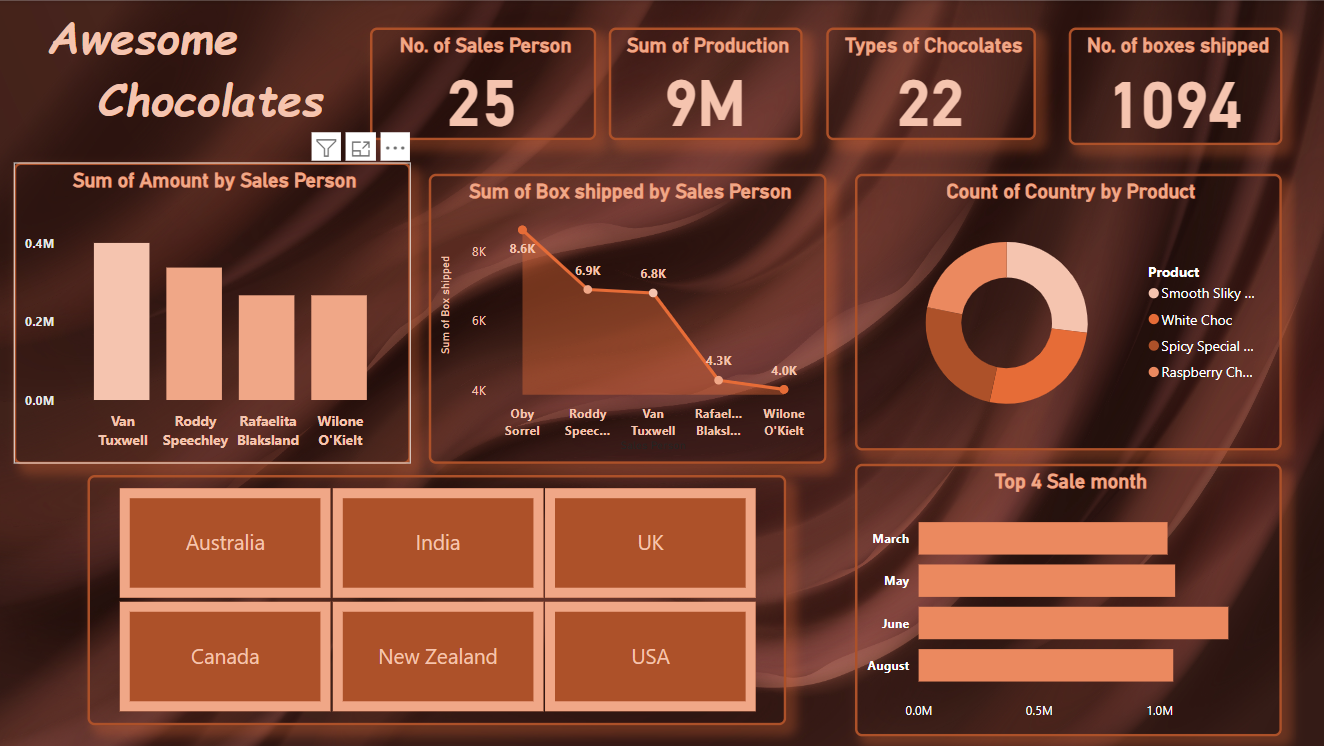

This screenshot's page, from the dashboard's own definition file:
{"tool":"powerbi","page":{"name":"Page 1","canvas":[1280,720],"ordinal":0},"visuals":[{"type":"card","title":"No. of Sales Person","fields":{"Values":["Chocolate Sales.Sales Person"]},"box":[357.1,26.5,218.4,108.6],"z":0},{"type":"card","title":"Sum of Production ","fields":{"Values":["Chocolate Sales.Amount"]},"box":[587.5,26.5,187,108.6],"z":1000},{"type":"card","title":"Types of Chocolates","fields":{"Values":["Chocolate Sales.Product"]},"box":[797.5,26.5,202.7,108.6],"z":2000},{"type":"card","title":"No. of boxes shipped","fields":{"Values":["Chocolate Sales.Box shipped"]},"box":[1031.5,26.5,206.3,113.4],"z":3000},{"type":"columnChart","title":"Sum of Amount by Sales Person","fields":{"Category":["Chocolate Sales.Sales Person"],"Y":["Chocolate Sales.Amount"]},"box":[13.7,156.4,382.8,290.9],"z":4000},{"type":"donutChart","fields":{"Y":["Chocolate Sales.Country"],"Category":["Chocolate Sales.Product"]},"box":[825.7,167.6,412.2,267.6],"z":5000},{"type":"areaChart","fields":{"Category":["Chocolate Sales.Sales Person"],"Y":["Chocolate Sales.Box shipped"]},"box":[414.4,167.4,384.2,279.9],"z":6000},{"type":"barChart","title":"Top 4 Sale month","fields":{"Category":["Chocolate Sales.Date.Variation.Date Hierarchy.Month"],"Y":["Chocolate Sales.Amount"]},"box":[825.7,447.3,412.2,263.5],"z":7000},{"type":"slicer","fields":{"Values":["Chocolate Sales.Country"]},"box":[84.5,458.4,674.4,241.3],"z":8000},{"type":"textbox","box":[14.1,0,330.8,156.4],"z":9000}]}

Visuals, with their boxes in screenshot pixels (x1, y1, x2, y2), scaled from the page's 1280x720 canvas onto the 1324x746 screenshot:
"No. of Sales Person" card: bbox=[369, 27, 595, 140]
"Sum of Production " card: bbox=[608, 27, 801, 140]
"Types of Chocolates" card: bbox=[825, 27, 1035, 140]
"No. of boxes shipped" card: bbox=[1067, 27, 1280, 145]
"Sum of Amount by Sales Person" columnChart: bbox=[14, 162, 410, 463]
donutChart - Chocolate Sales.Country x Chocolate Sales.Product: bbox=[854, 174, 1280, 451]
areaChart - Chocolate Sales.Sales Person x Chocolate Sales.Box shipped: bbox=[429, 173, 826, 463]
"Top 4 Sale month" barChart: bbox=[854, 463, 1280, 736]
slicer - Chocolate Sales.Country: bbox=[87, 475, 785, 725]
textbox: bbox=[15, 0, 357, 162]
